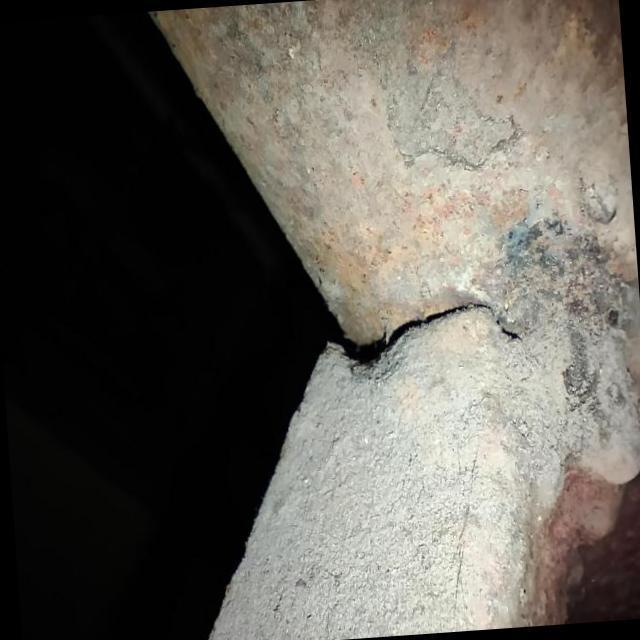defect: (331, 299, 529, 374)
